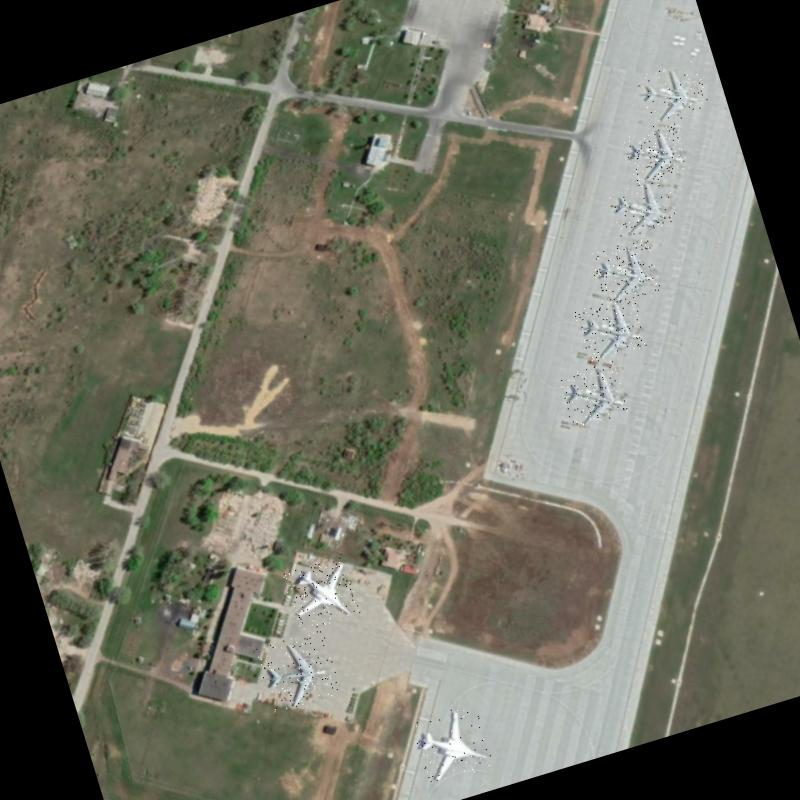A17: (255, 628, 342, 714), (574, 293, 650, 365), (588, 237, 663, 308), (558, 360, 631, 430), (636, 59, 710, 127), (608, 176, 681, 241), (622, 121, 690, 186)
A6: (411, 701, 496, 788), (281, 554, 362, 632)
